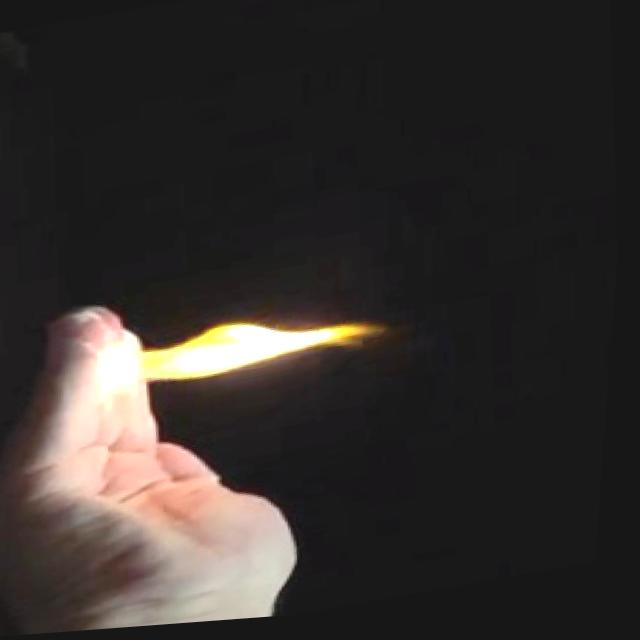helmet: (90, 298, 407, 409)
